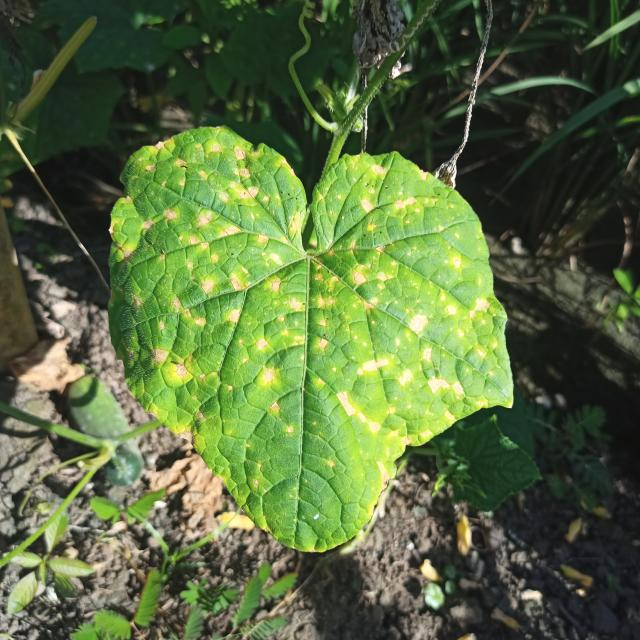disease_cucumber: (114, 129, 494, 533)
